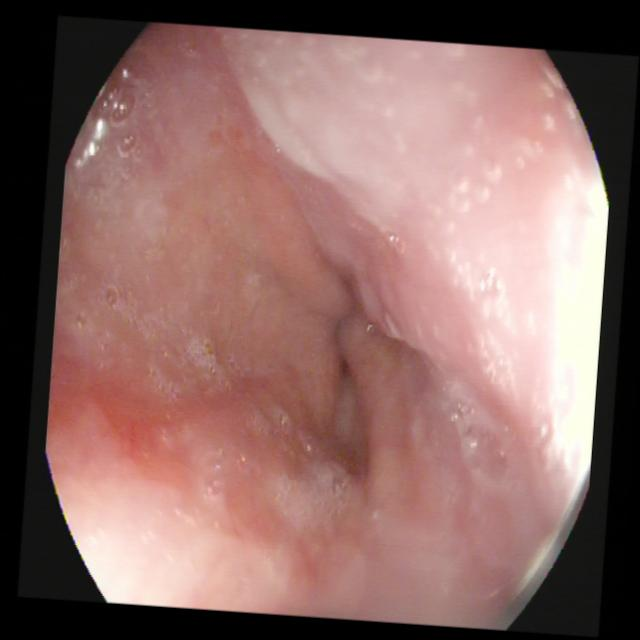Normal-Z-Line: (43, 17, 443, 597)
